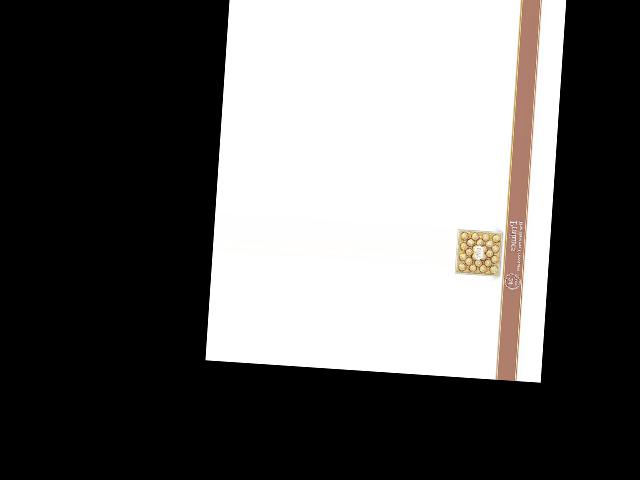chocolate: (451, 227, 505, 279)
